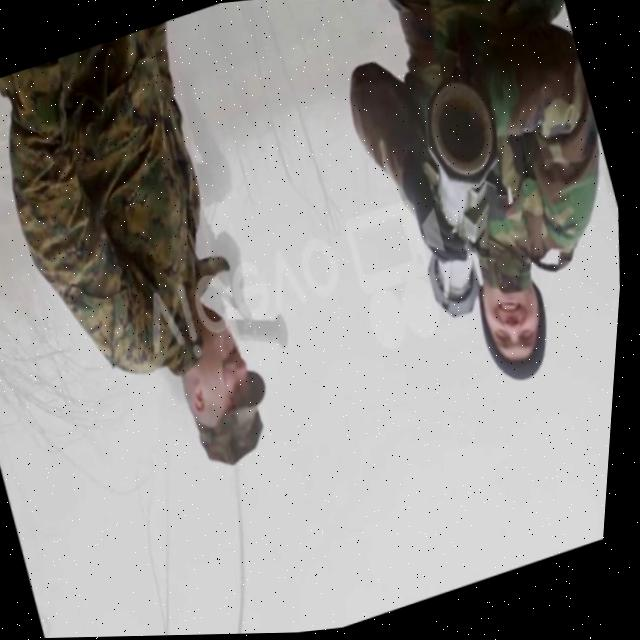rocket: (372, 76, 554, 332)
